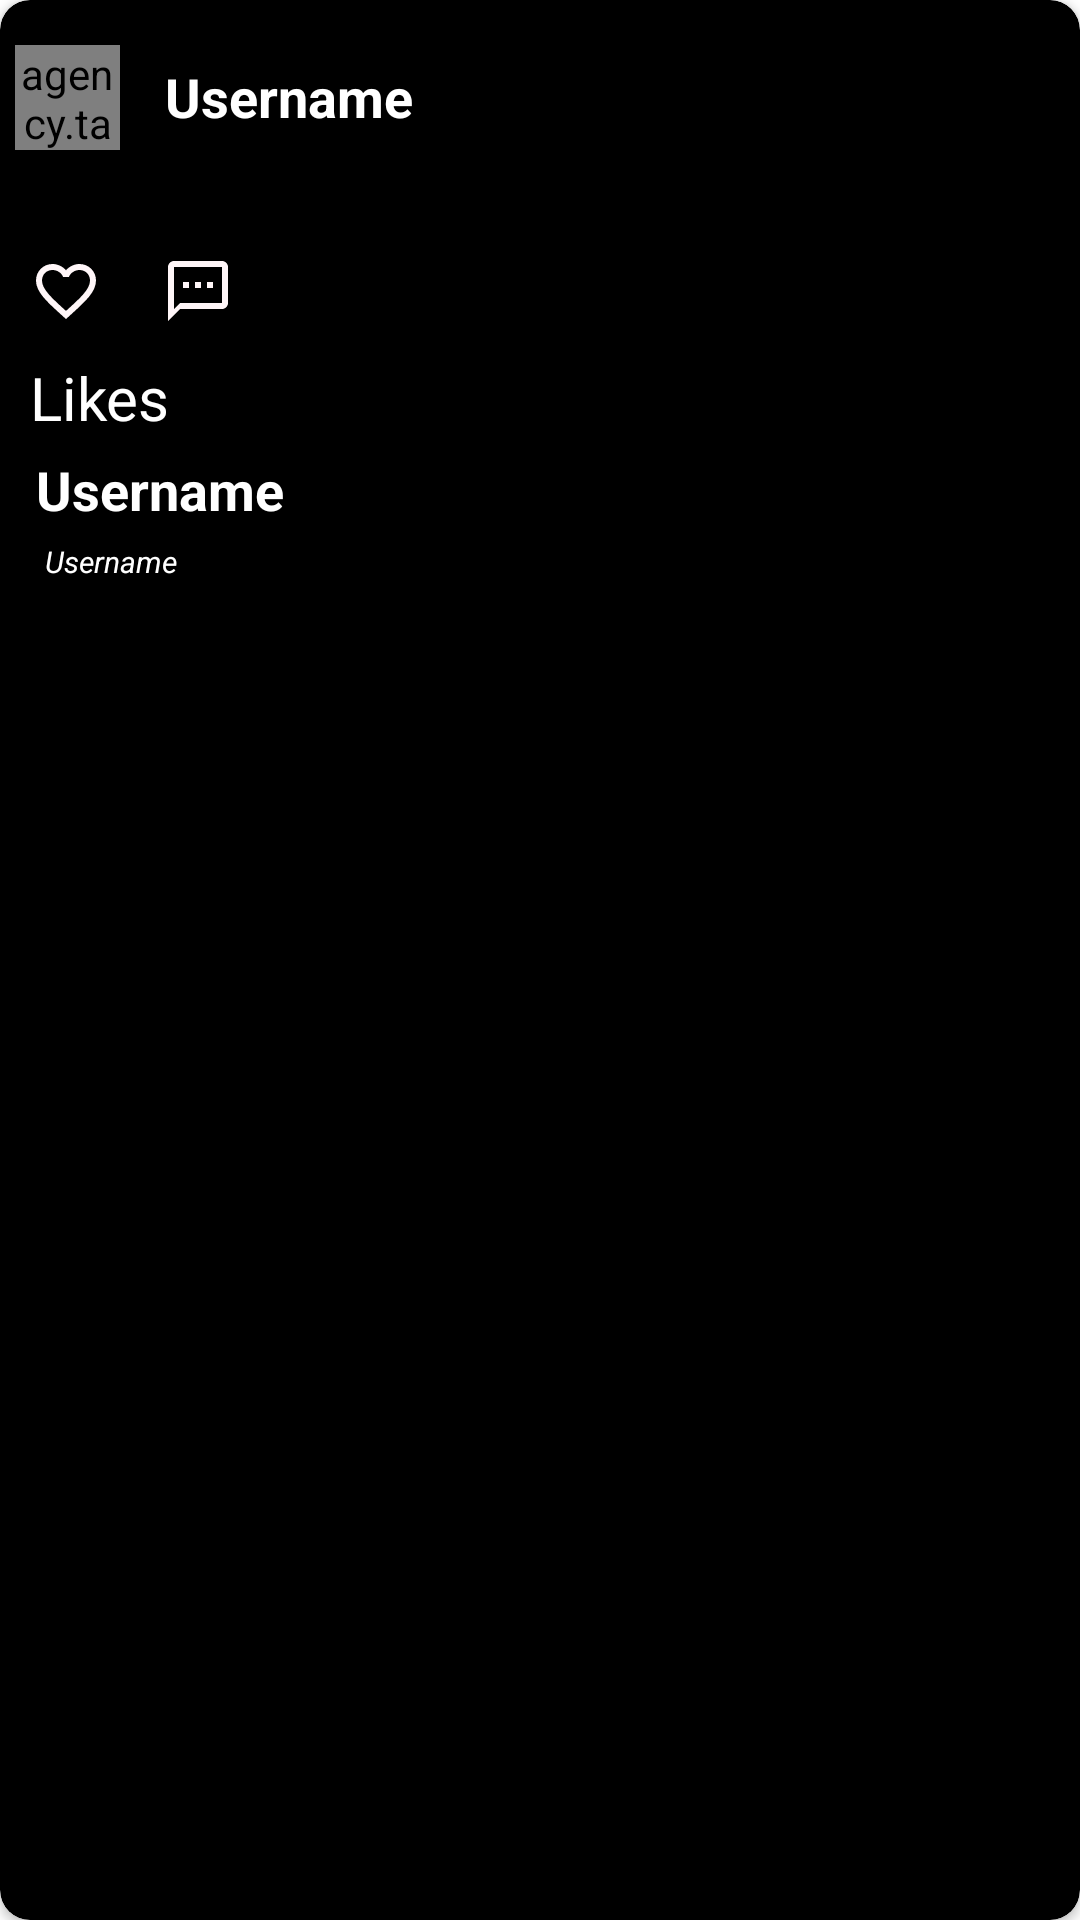

Named icons in this screenshot (1080*1920) and their bounding boxes, (x1, y1, x2, y2):
comment: (168, 261, 228, 321)
